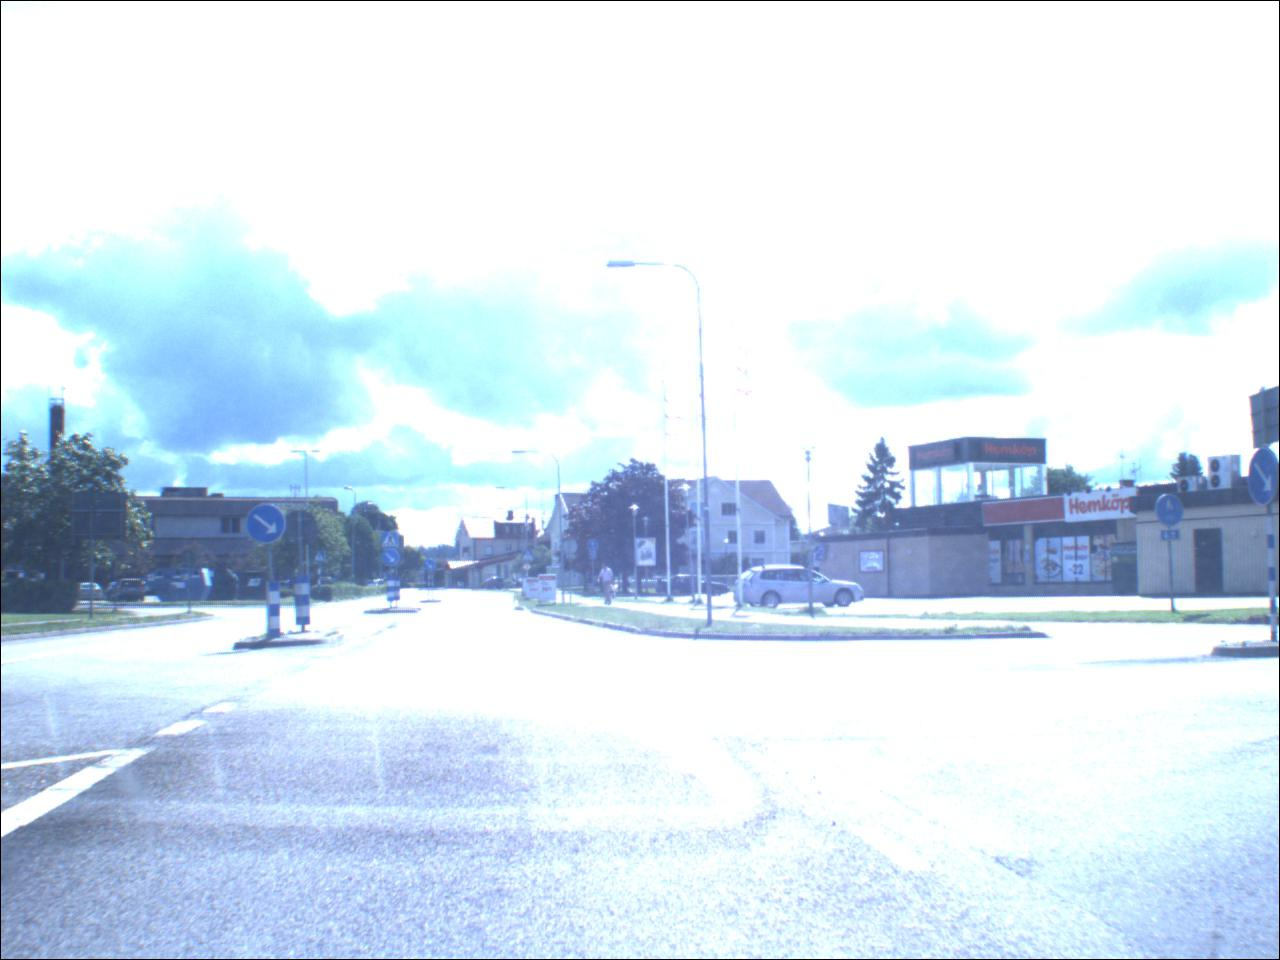PASS_RIGHT_SIDE: (247, 504, 290, 547), (383, 551, 402, 570), (425, 561, 436, 573)
PEDESTRIAN_CROSSING: (384, 534, 402, 551), (524, 552, 536, 564), (316, 553, 326, 564)
PRIORITY_ROAD: (525, 565, 534, 574)
